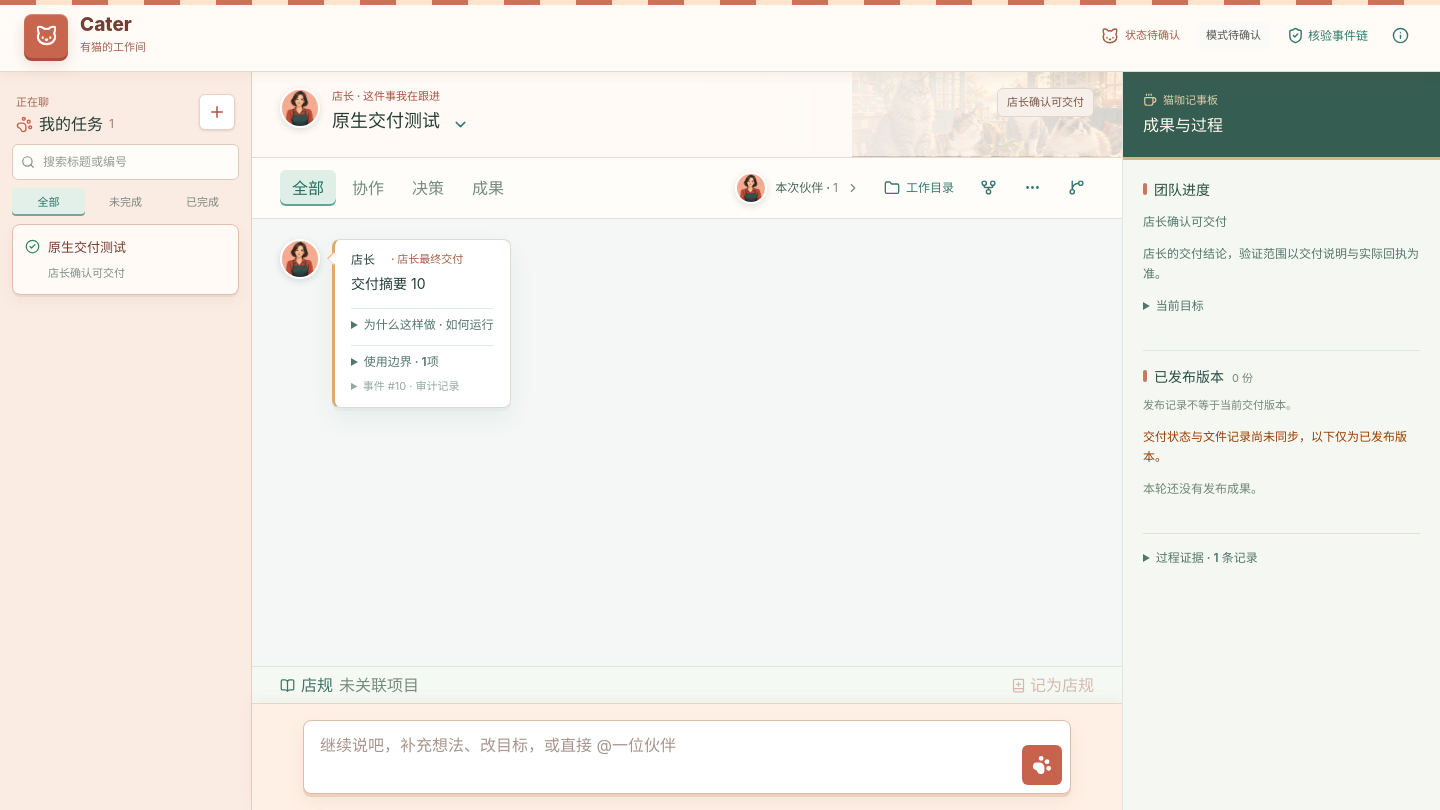
Test: 引用省略仍保留讲解和运行步骤，但夹带的引文与命令记录不能显示
Check: the element "团队进度" is shown, box left=1143, top=180, right=1420, bottom=330
Click the heading "为什么这样做 · 如何运行". click: {"x": 422, "y": 325}
box: left=351, top=317, right=494, bottom=333
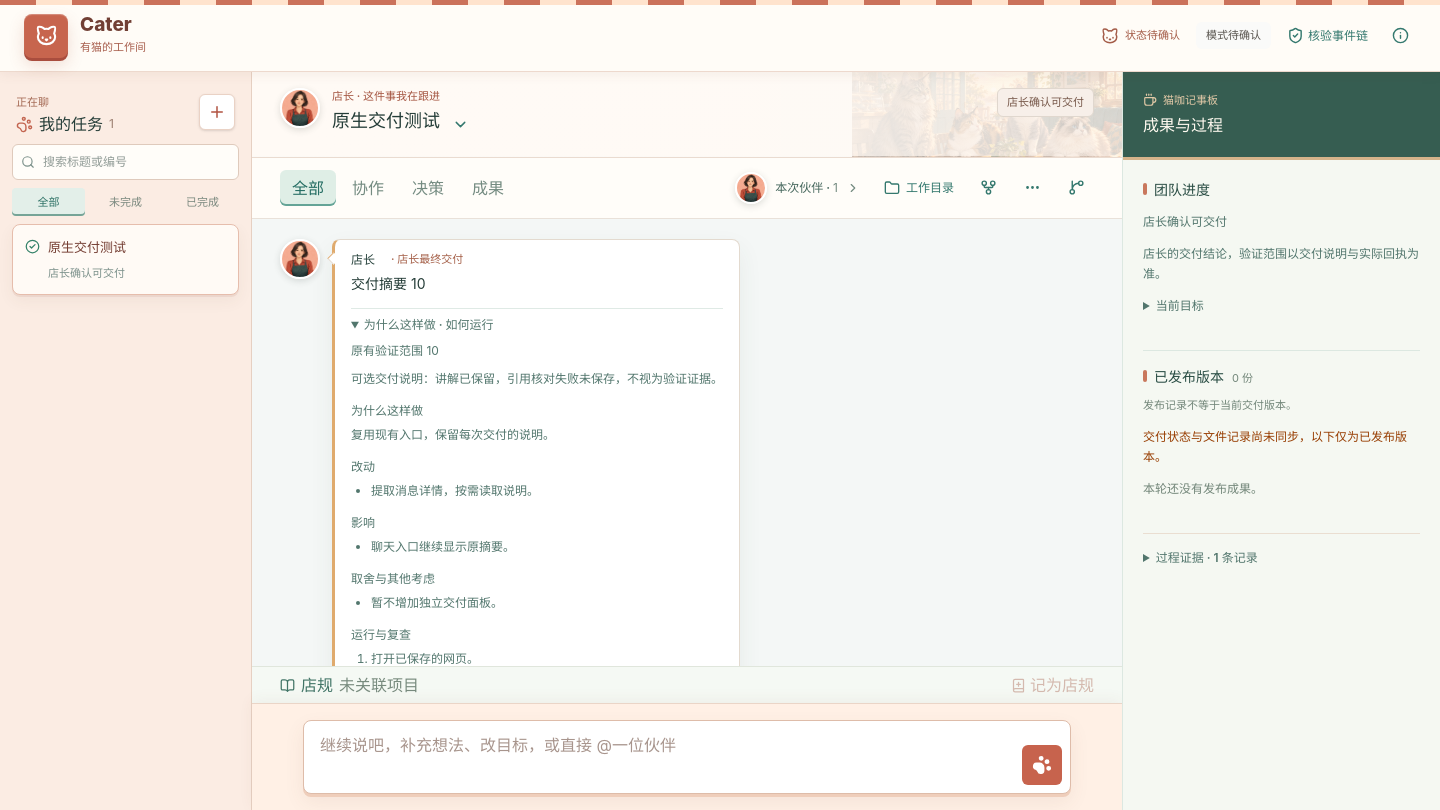
Check: the text "复用现有入口，保留每次交付的说明。" is shown, box left=351, top=427, right=555, bottom=442
